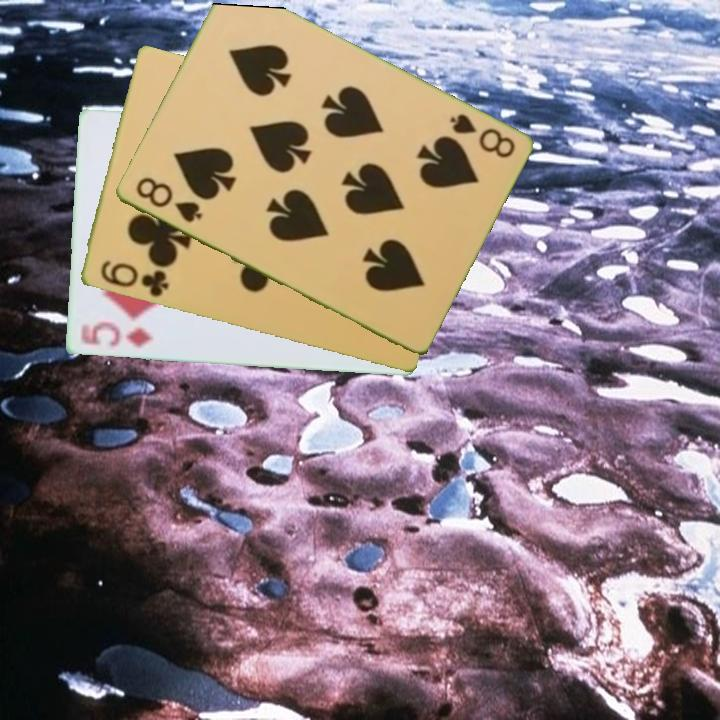5d: (76, 319, 156, 351)
6c: (96, 257, 171, 300)
8s: (131, 173, 205, 226), (445, 110, 518, 162)
